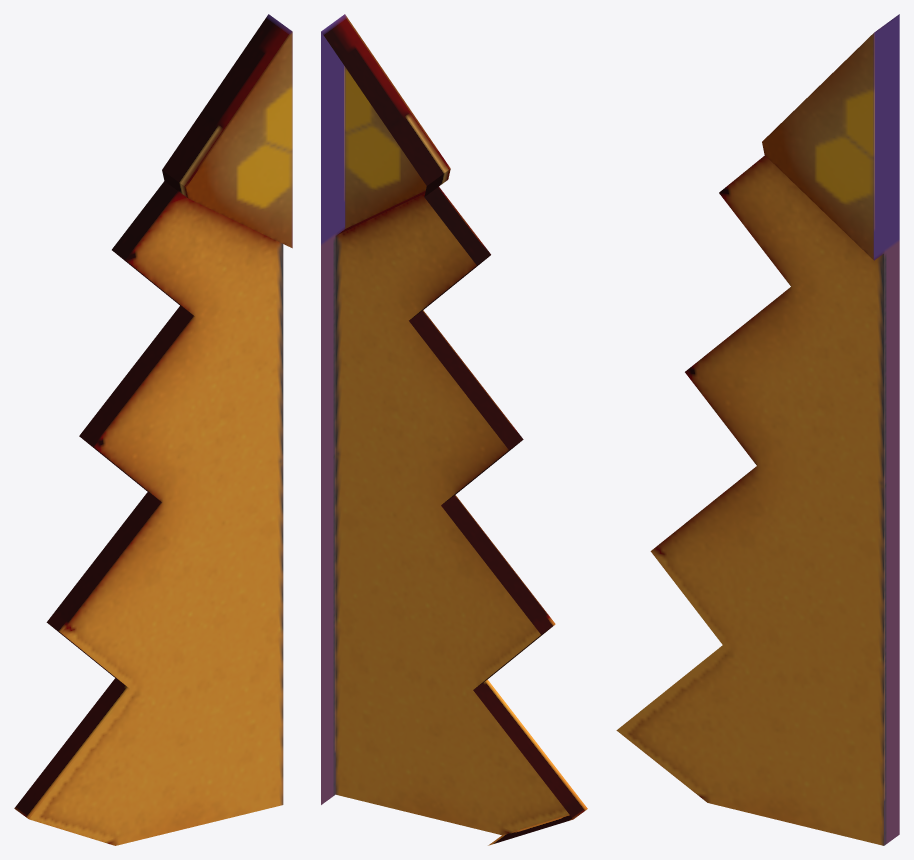
Rendered from Door_Left_anim.FBX.
3 renders of one model, left to right at view 1: azimuth 30°, elevation 25°; view 2: azimuth 150°, elevation 25°; view 3: azimuth 330°, elevation 25°, orthographic. The views are drawn at different scales.
Visible parts, largest first — view 1: Plane005; view 2: Plane005; view 3: Plane005.
Boxes of the visible parts, x1=… form: Plane005: x1=14, y1=14, x2=292, y2=845; Plane005: x1=321, y1=14, x2=587, y2=845; Plane005: x1=616, y1=14, x2=899, y2=845.
Bounding box in the file's own units: 44.32 × 130 × 7.3.
1 material, 1 textured.
